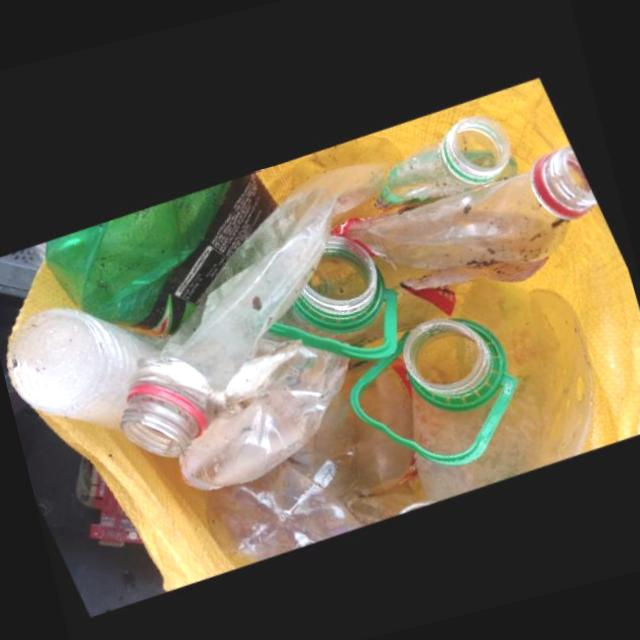chai_nhua: (49, 164, 280, 331)
chai_nhua_pet: (122, 153, 394, 454), (339, 133, 597, 323), (349, 266, 559, 495), (206, 352, 418, 558), (180, 332, 351, 486), (340, 104, 521, 214), (272, 228, 402, 354), (348, 470, 434, 520)
hop_nhua: (9, 306, 157, 427)
